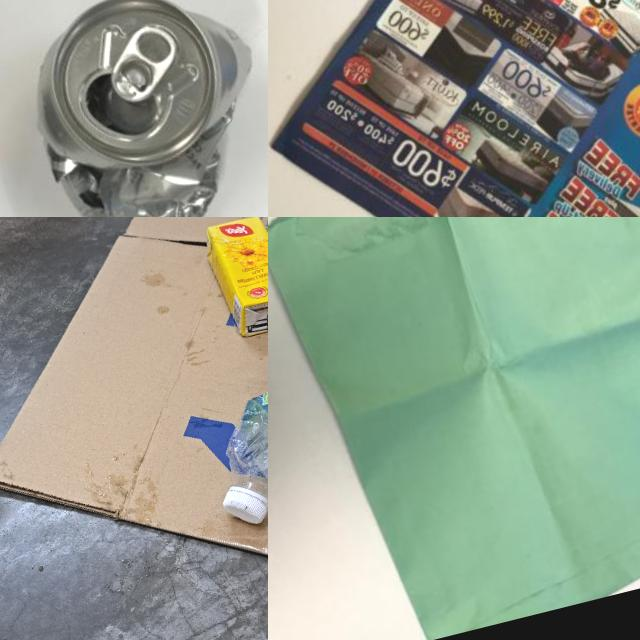aba de lata: (99, 17, 190, 108)
caixinha: (201, 217, 268, 339)
garrafa plástica: (199, 370, 268, 533)
lata: (7, 0, 268, 217)
papel: (268, 217, 640, 640), (268, 0, 640, 217)
papelão: (0, 217, 268, 640)
tampa plástica: (221, 476, 268, 530)
